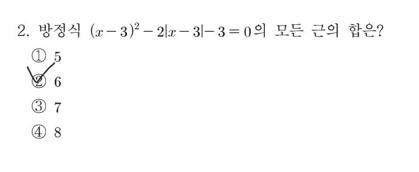1: (26, 64, 49, 89)
paper: (30, 46, 47, 64), (30, 71, 47, 89), (30, 96, 47, 114), (31, 122, 47, 140)
